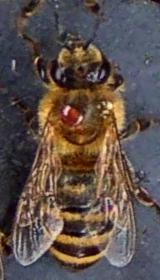varroa_mite: (46, 88, 96, 138)
